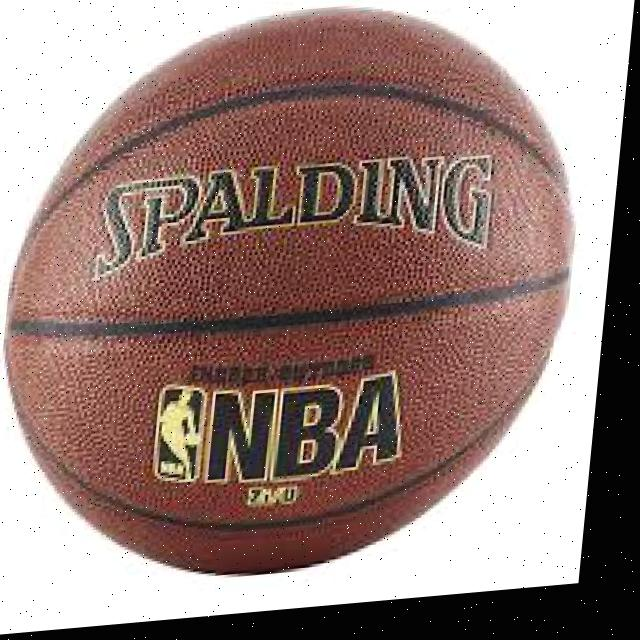Basketball: (0, 0, 599, 598)
